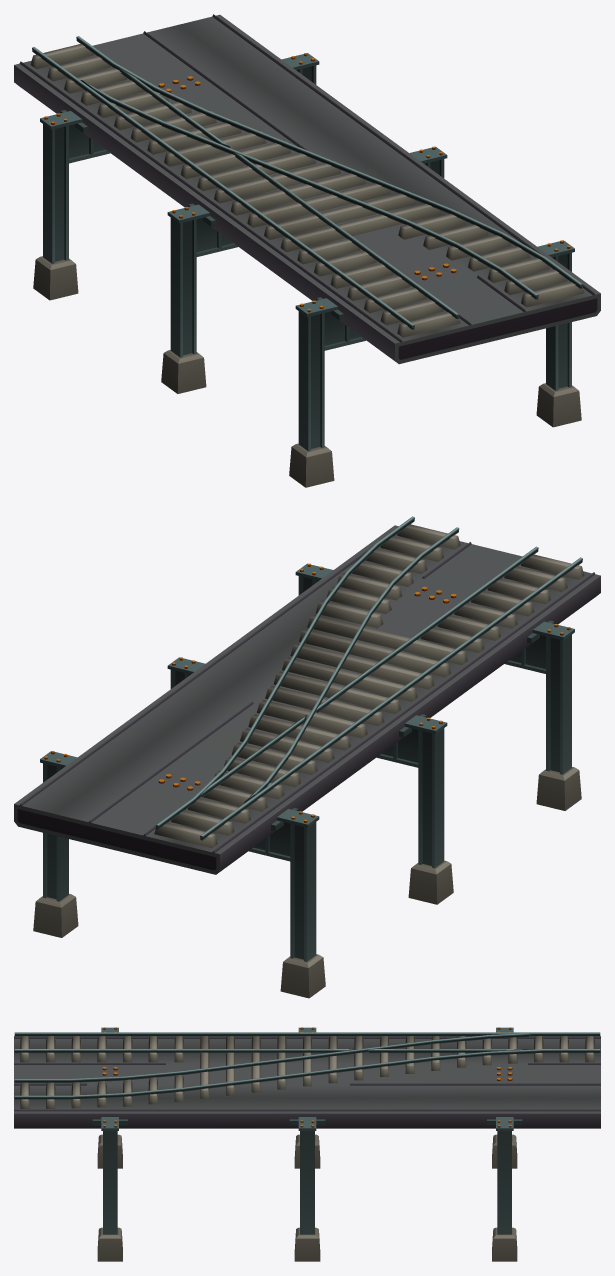
The model's file is Train_Tracks_Suspended_1D.fbx.
3 views of the same model, one above another, from view 1: azimuth 30°, elevation 25°; view 2: azimuth 150°, elevation 25°; view 3: azimuth 270°, elevation 25° (orthographic). The views are drawn at different scales.
Parts seen in each view (by area): view 1: Train_Tracks_Suspended_1D; view 2: Train_Tracks_Suspended_1D; view 3: Train_Tracks_Suspended_1D.
Boxes of the visible parts, <box> form: Train_Tracks_Suspended_1D: <box>14,14,600,487</box>; Train_Tracks_Suspended_1D: <box>14,516,600,998</box>; Train_Tracks_Suspended_1D: <box>14,1027,600,1261</box>.
Bounding box in the file's own units: 13.39 × 8.75 × 32.
